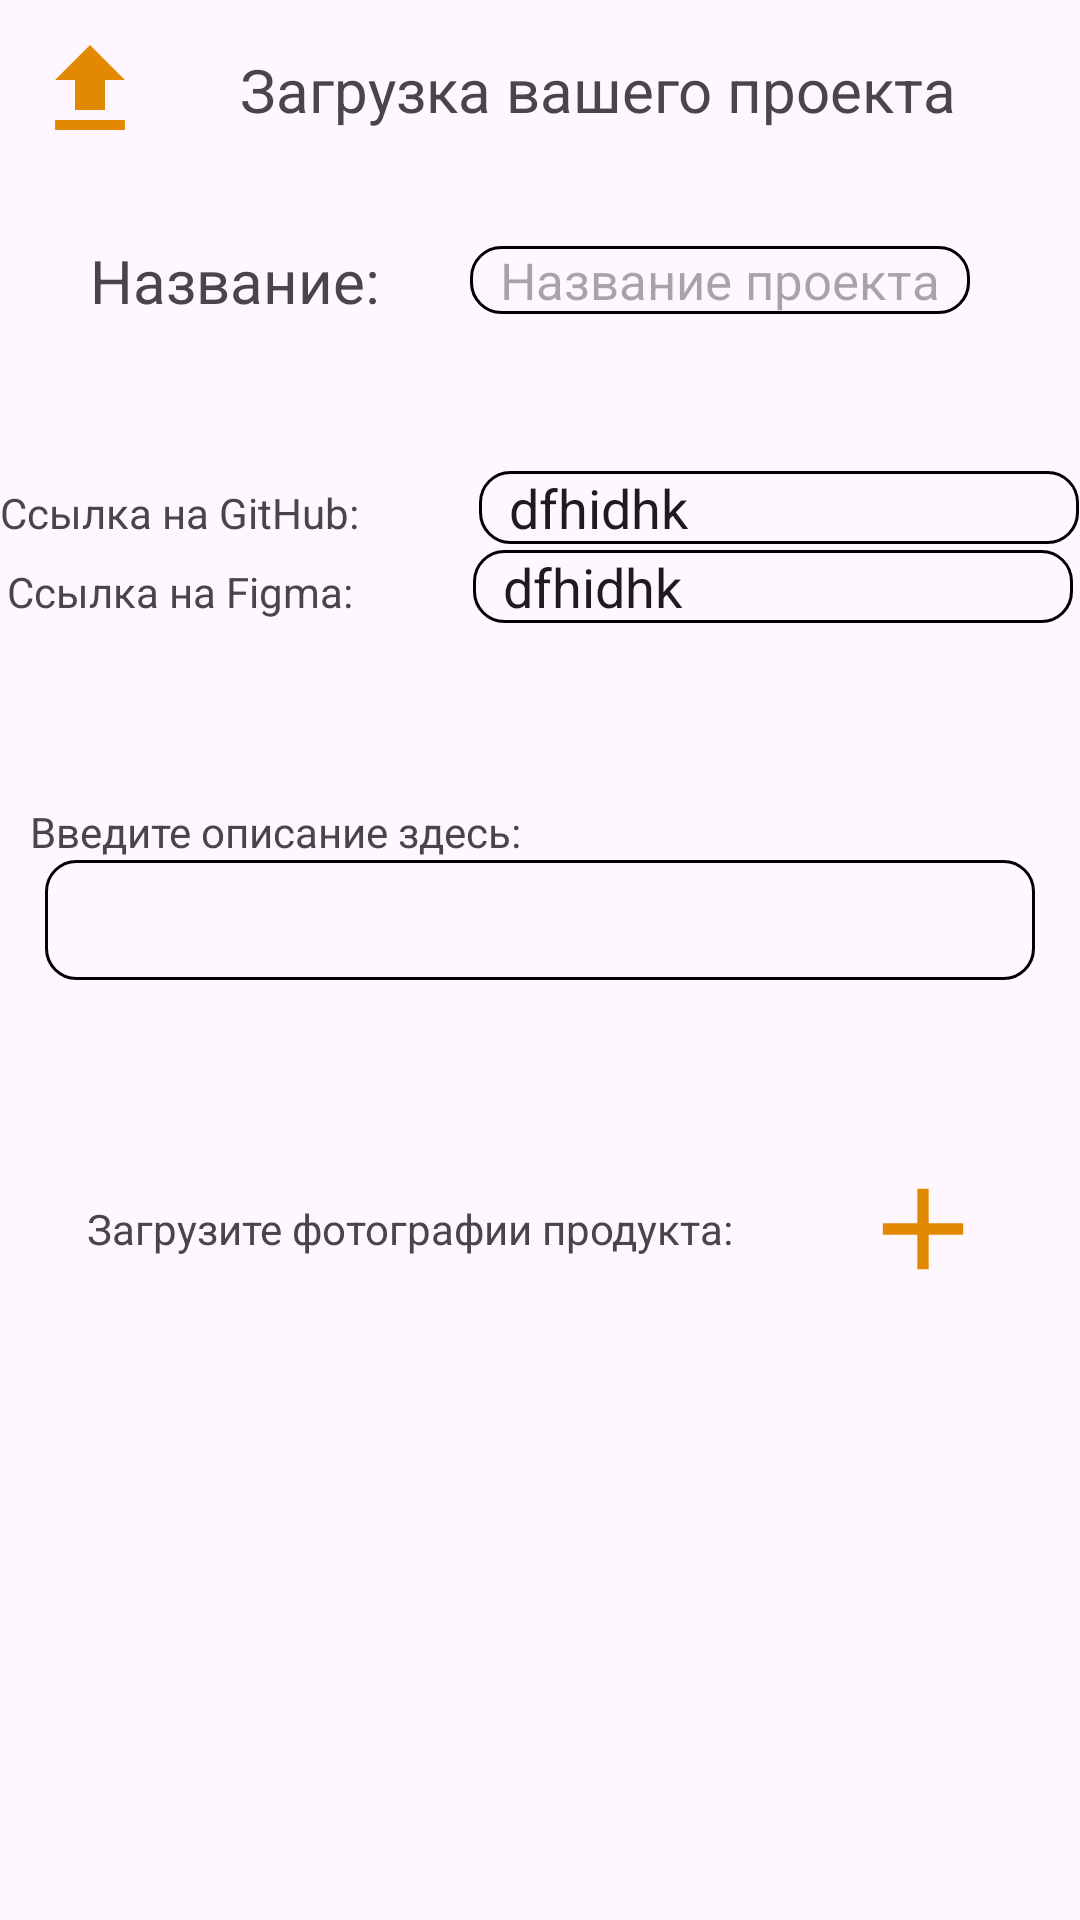

Named icons in this screenshot (1080×1920) and their bounding boxes, region(x1, y1, x2, y2):
file uploaddownload: region(55, 45, 125, 130)
plus: region(882, 1188, 964, 1270)
